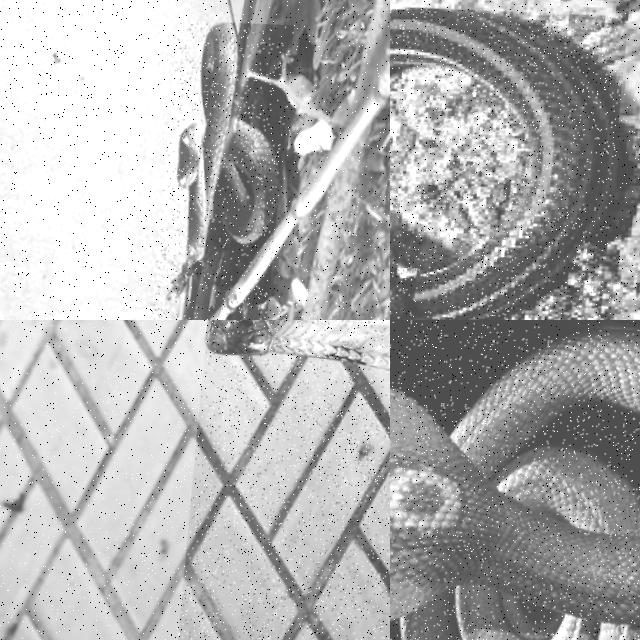Calliophis intestinalis: (390, 8, 617, 319)
Naja kaouthia: (390, 329, 639, 639)
Ophiophagus hannah: (206, 320, 389, 370)
Trimeresurus macrops: (178, 22, 280, 263)
snake: (390, 329, 639, 639), (390, 8, 617, 319), (178, 22, 280, 263), (206, 320, 389, 370)
